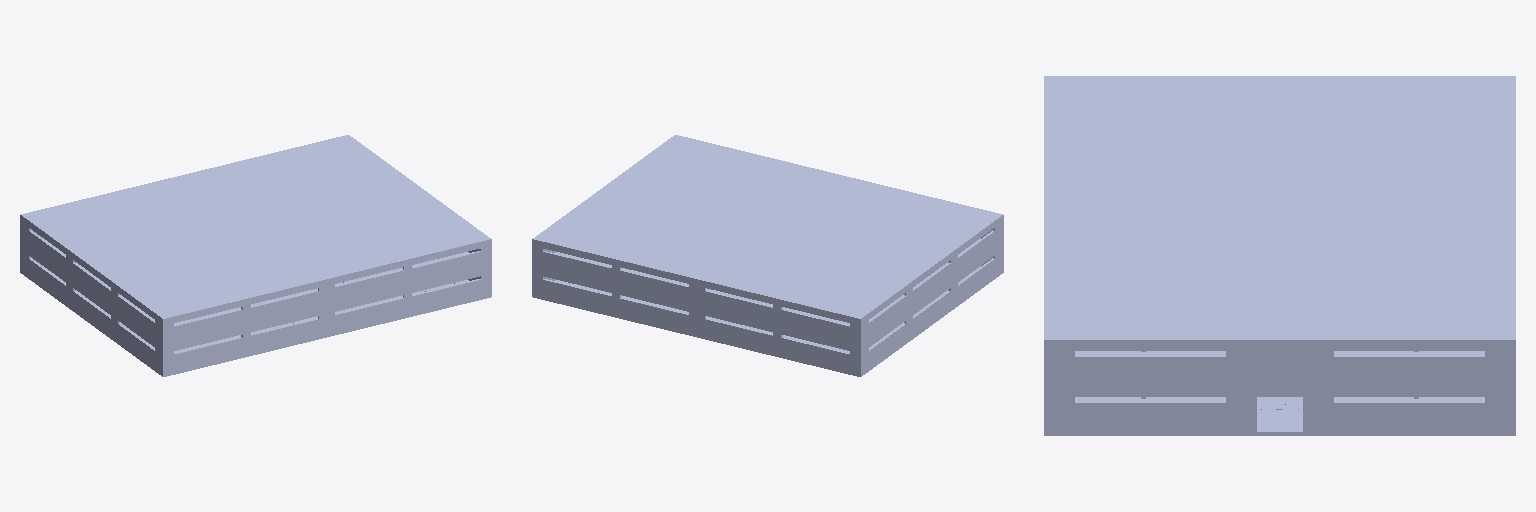
The robot description file, URDF, robot "teste":
<?xml version="1.0" encoding="utf-8"?>
<!-- This URDF was automatically created by SolidWorks to URDF Exporter! Originally created by [author] ([email redacted]) 
     Commit Version: 1.5.1-0-g916b5db  Build Version: 1.5.7152.31018
     For more information, please see http://wiki.ros.org/sw_urdf_exporter -->
<robot
  name="teste">
  <link
    name="parking">
    <inertial>
      <origin
        xyz="-0.66241 -0.000176539999999815 3.0257"
        rpy="0 0 0" />
      <mass
        value="1416400" />
      <inertia
        ixx="133990000"
        ixy="-79.0219999998744"
        ixz="-2051700"
        iyy="231040000"
        iyz="490.060000007071"
        izz="346520000" />
    </inertial>
    
    <visual>
      <origin
        xyz="0 0 0.01"
        rpy="1.5707963267949 0 0" />
      <geometry>
        <mesh
          filename="package://parking_lot/meshes/parking.STL" />
      </geometry>
      <material
        name="">
        <color
          rgba="0.79216 0.81961 0.93333 1" />
        <texture
          filename="package://parking_lot/textures/" />
      </material>
    </visual>

    <collision>
      <origin
        xyz="0 0 0"
        rpy="1.5707963267949 0 0" />
      <geometry>
        <mesh
          filename="package://parking_lot/meshes/parking.STL" />
      </geometry>
    </collision>

  </link>
</robot>

--- Facts derived from the render (not from the file) ---
Views: 3 orthographic renders of the robot side by side, from view 1: azimuth 30°, elevation 25°; view 2: azimuth 150°, elevation 25°; view 3: azimuth 270°, elevation 25°.
Robot: teste — 1 links, 0 joints (none); root link parking; default pose: every joint at zero.
Visible links, largest first — view 1: parking; view 2: parking; view 3: parking.
Boxes of the visible links, x1,y1,x2,y2 form: parking: (20,135,491,376); parking: (532,135,1003,376); parking: (1044,76,1515,435).
Size in the robot's own frame: 40.6 by 30.6 by 6.9 metres.
1 mesh visuals loaded from 1 distinct referenced files (1 binary STL).
